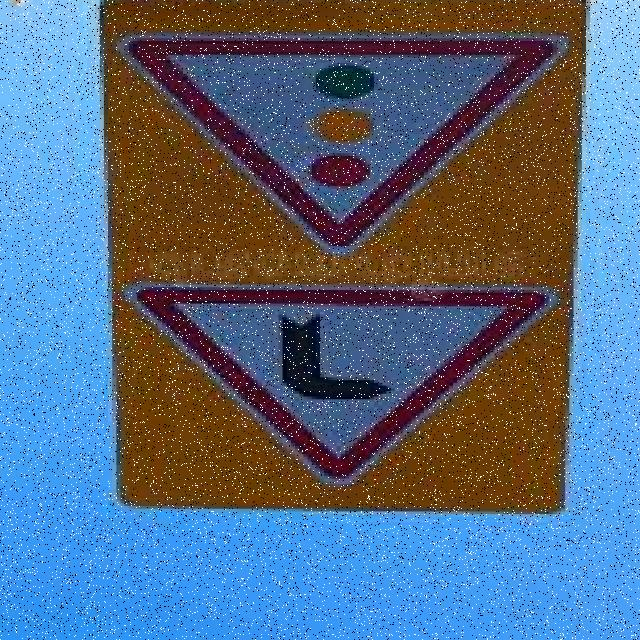light_traffic: (108, 26, 572, 260)
